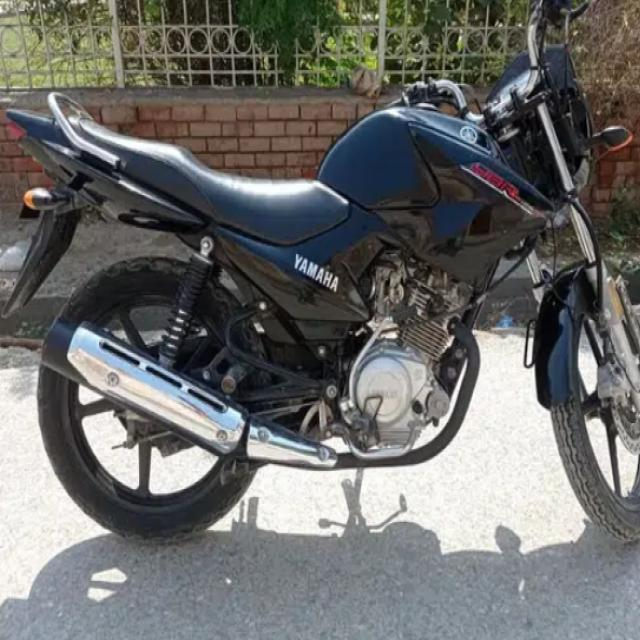Bike: (2, 60, 640, 551)
